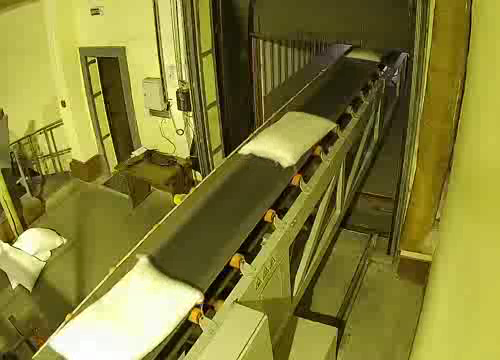bag: (47, 249, 211, 360), (236, 110, 340, 168), (344, 43, 391, 64)
